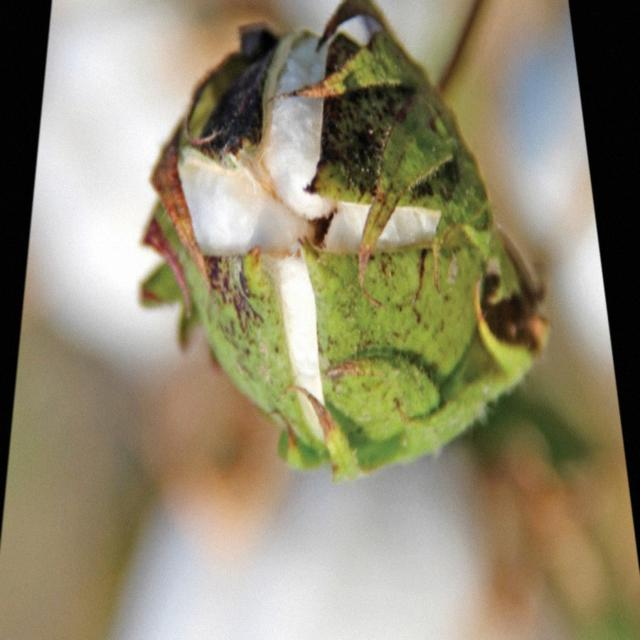Split Cotton Boll: (155, 21, 526, 472)
